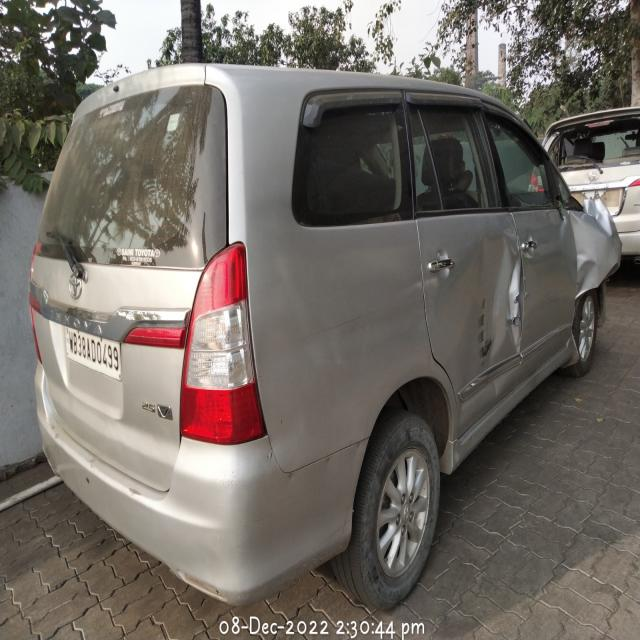damage: (468, 226, 525, 366), (573, 194, 621, 296), (552, 184, 570, 222)
